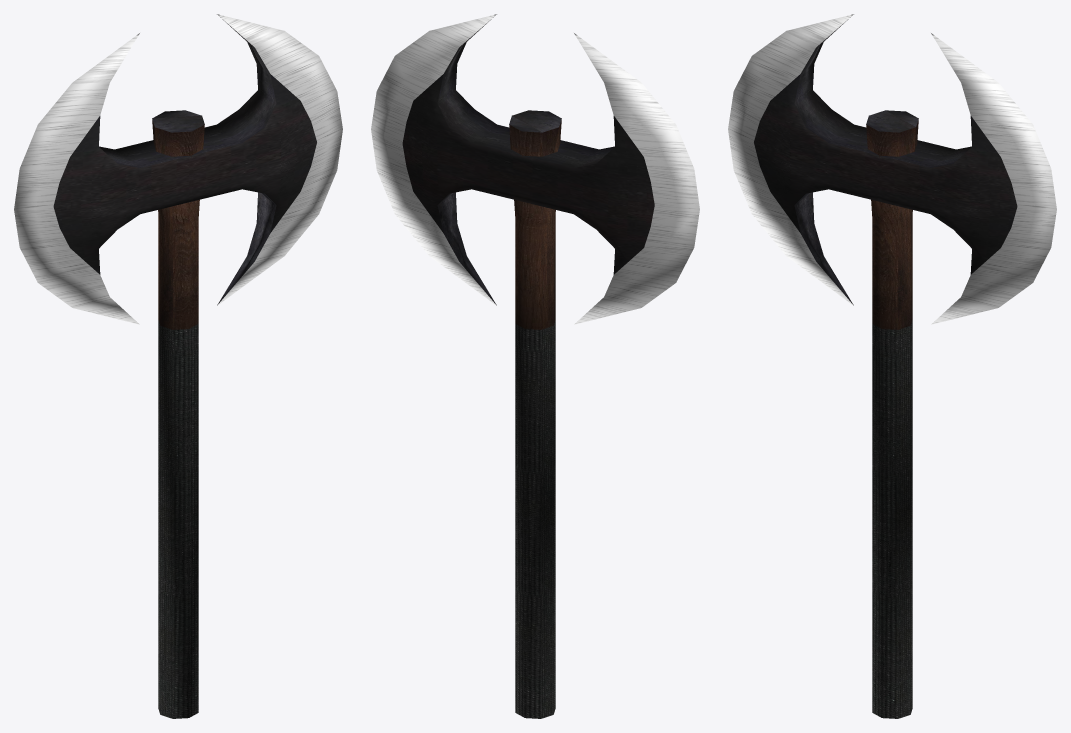
Rendered from sword1.dae.
The picture shows the model from 3 angles, left to right: view 1: azimuth 30°, elevation 25°; view 2: azimuth 150°, elevation 25°; view 3: azimuth 330°, elevation 25°; orthographic projection.
Visible parts, largest first — view 1: Axe01; view 2: Axe01; view 3: Axe01.
Boxes of the visible parts, x1,y1,x2,y2 form: Axe01: [14, 14, 342, 718]; Axe01: [371, 14, 699, 718]; Axe01: [728, 14, 1056, 718].
Bounding box in the file's own units: 0.4699 × 0.0675 × 0.9378.
4 materials, 4 textured.
